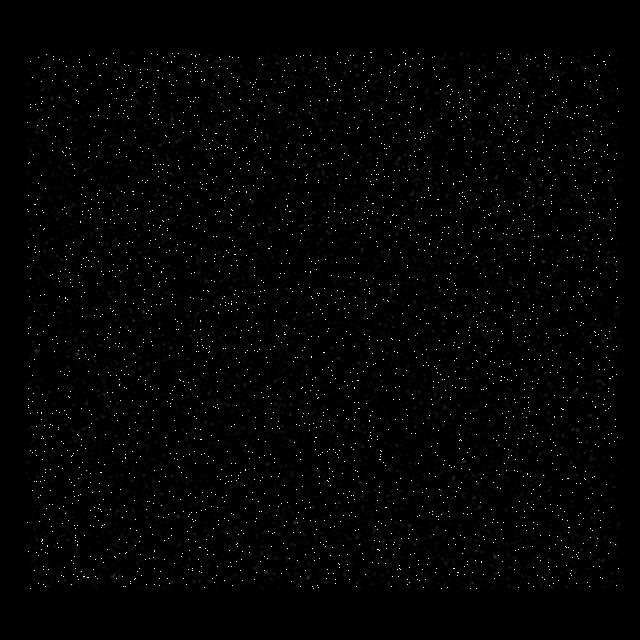nothing: (28, 53, 620, 590)
